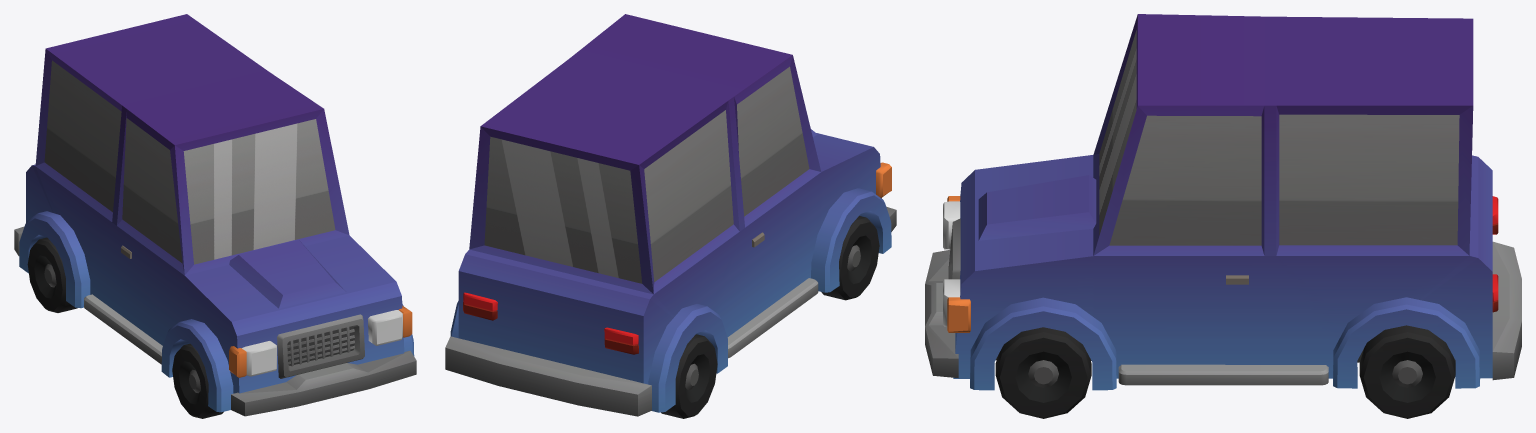
The model's file is Car_5_7.fbx.
3 views of the same model, side by side, from view 1: azimuth 30°, elevation 25°; view 2: azimuth 150°, elevation 25°; view 3: azimuth 270°, elevation 25° (orthographic). The views are drawn at different scales.
Visible parts, largest first — view 1: Car_5_7, W_br, W_fr; view 2: Car_5_7, W_br, W_fr; view 3: Car_5_7, W_bl, W_fl.
Boxes of the visible parts, left/top/right/bottom form: Car_5_7: left=14, top=14, right=416, bottom=416; W_br: left=27, top=237, right=77, bottom=312; W_fr: left=172, top=343, right=223, bottom=418; Car_5_7: left=445, top=14, right=896, bottom=416; W_br: left=661, top=334, right=717, bottom=418; W_fr: left=821, top=216, right=879, bottom=300; Car_5_7: left=925, top=14, right=1521, bottom=390; W_bl: left=1359, top=325, right=1455, bottom=418; W_fl: left=995, top=327, right=1091, bottom=418.
Bounding box in the file's own units: 113 × 130 × 233.
